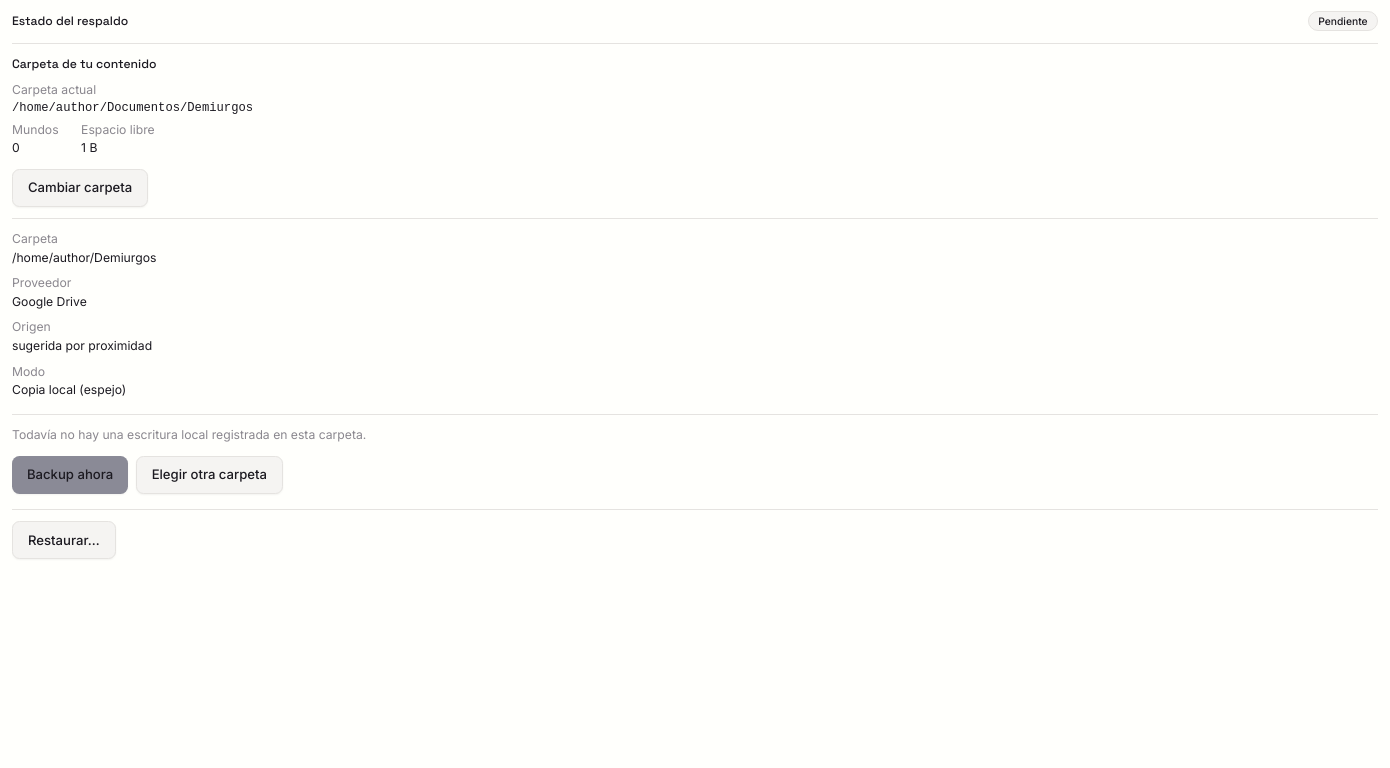
Scenario: BackupSection › state 5: preview blockers disable the confirm action
Check: the heading "Estado del respaldo" is shown, box x1=12 y1=12 x2=128 y2=30
What coordinates should you click on to do the following:
click the button "Restaurar…"
I would click on:
 (64, 540)
Its box is x1=12 y1=521 x2=116 y2=559.
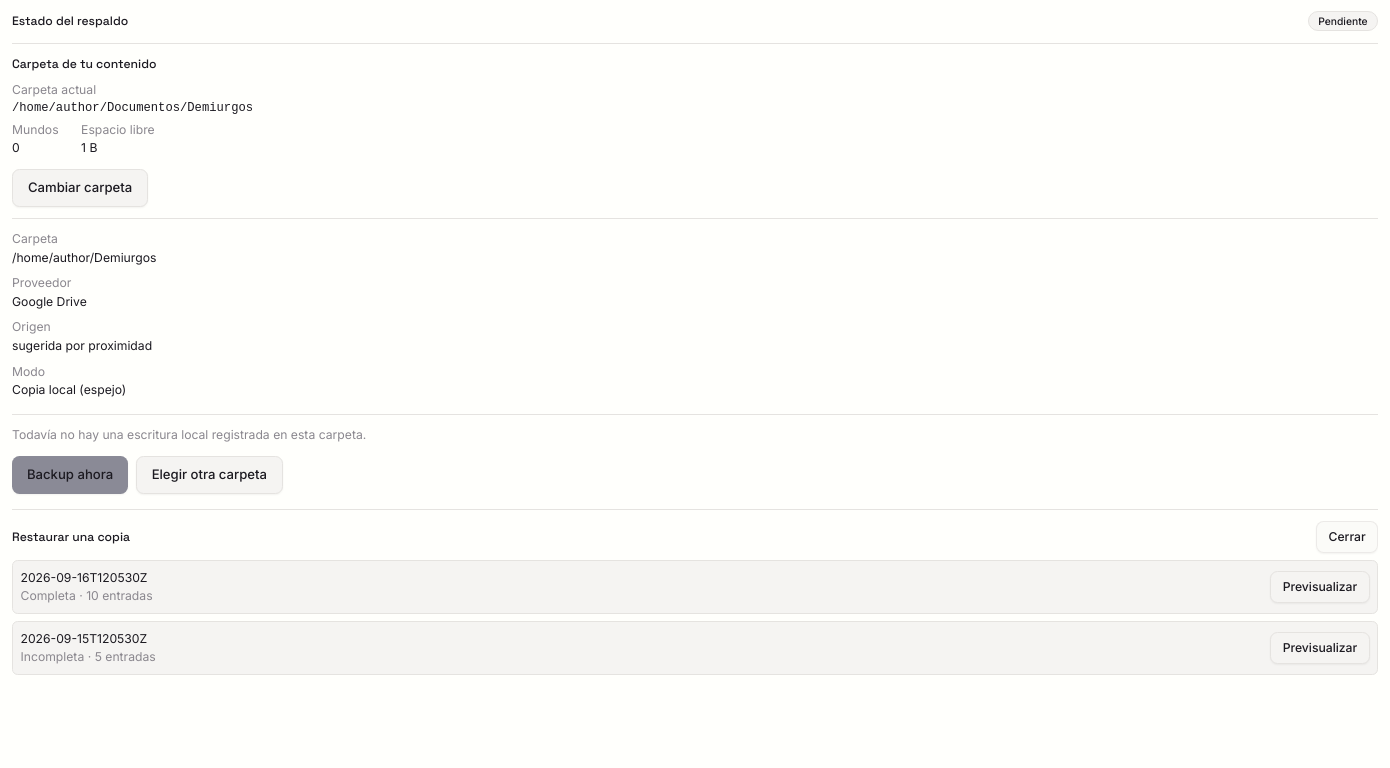
What coordinates should you click on to do the following:
click the button "Previsualizar" in the row of "2026-09-16T120530Z"
I would click on:
 (1320, 587)
Its box is x1=1270 y1=571 x2=1370 y2=603.
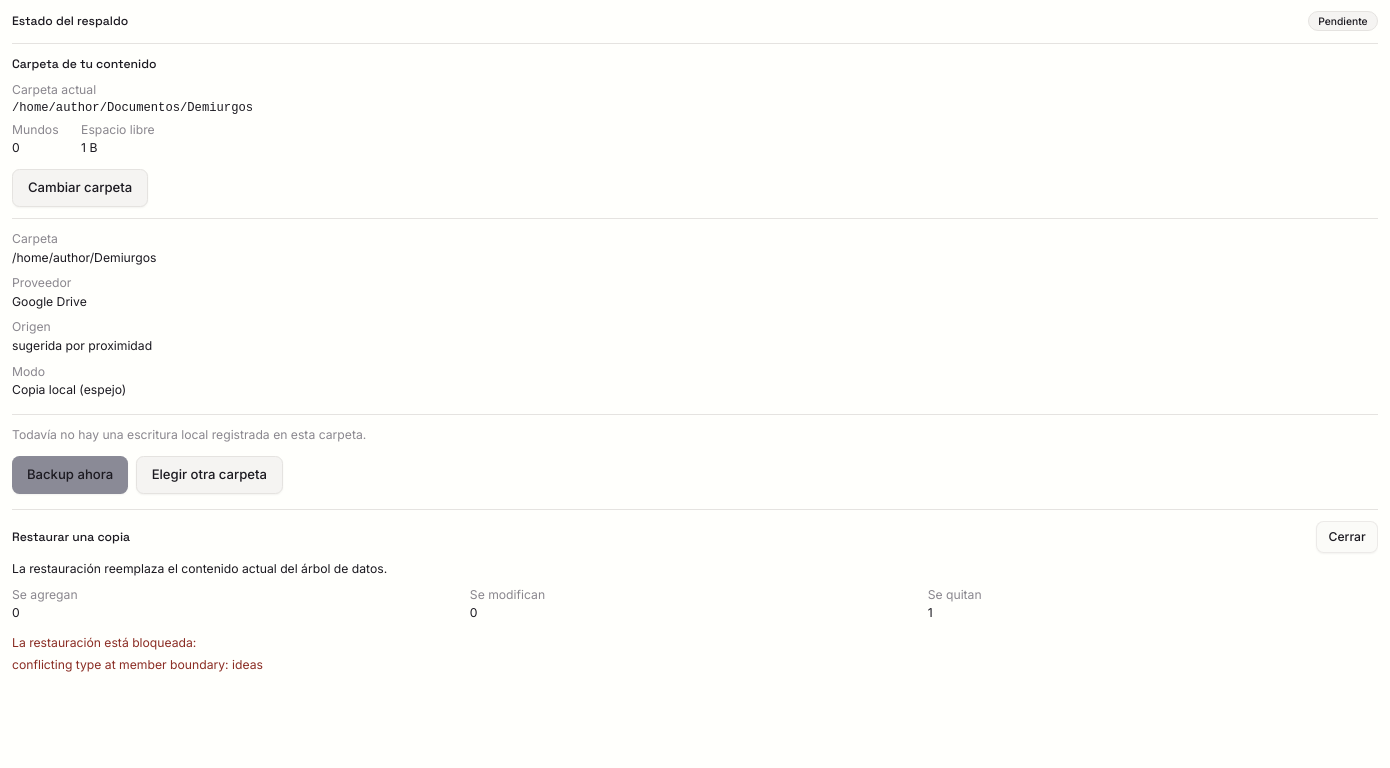
Check: the list item "conflicting type at member boundary: ideas" is shown, box x1=12 y1=657 x2=263 y2=672
